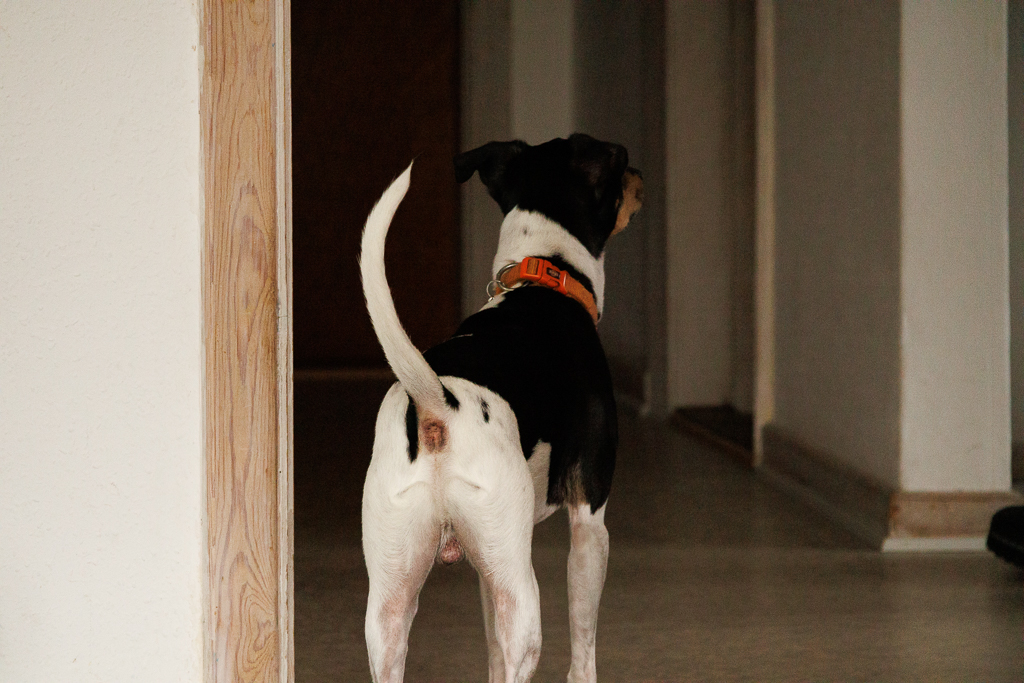Dog: (347, 124, 661, 683)
